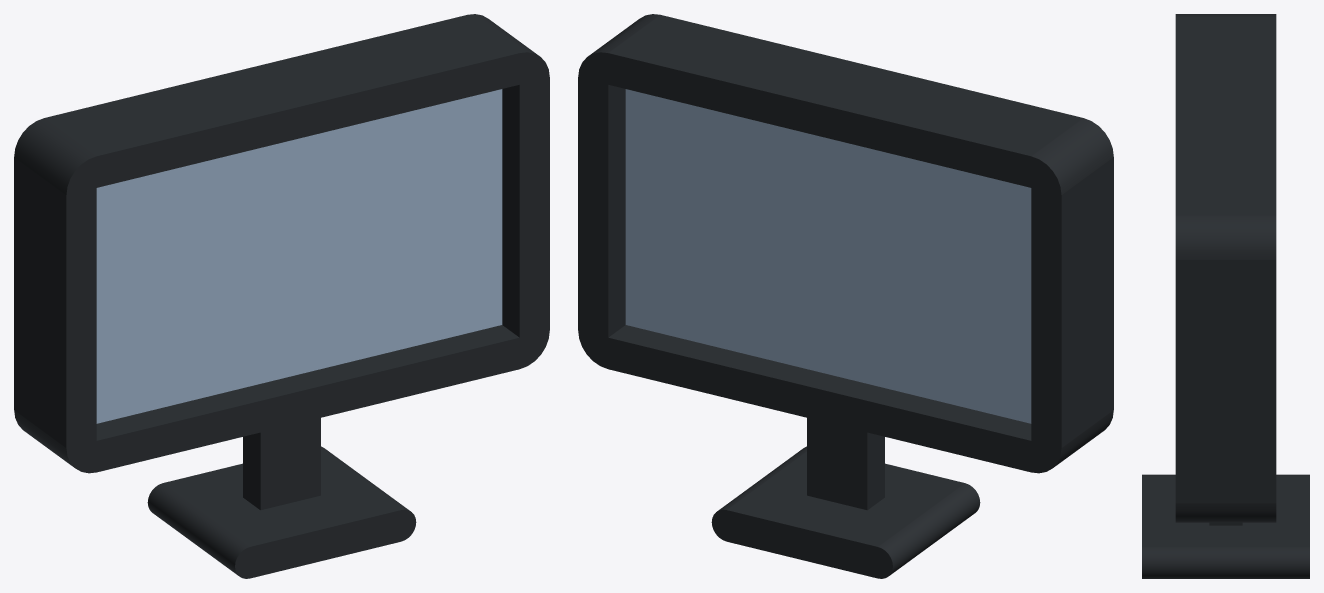
Rendered from screen.glb.
The picture shows the model from 3 angles, left to right: view 1: azimuth 30°, elevation 25°; view 2: azimuth 150°, elevation 25°; view 3: azimuth 270°, elevation 25°; orthographic projection. The views are drawn at different scales.
Parts seen in each view (by area): view 1: generated(Clone); view 2: generated(Clone); view 3: generated(Clone).
Boxes of the visible parts, left/top/right/bottom form: generated(Clone): left=14, top=14, right=549, bottom=578; generated(Clone): left=578, top=14, right=1113, bottom=578; generated(Clone): left=1142, top=14, right=1309, bottom=578.
Bounding box in the file's own units: 16 × 14 × 5.
